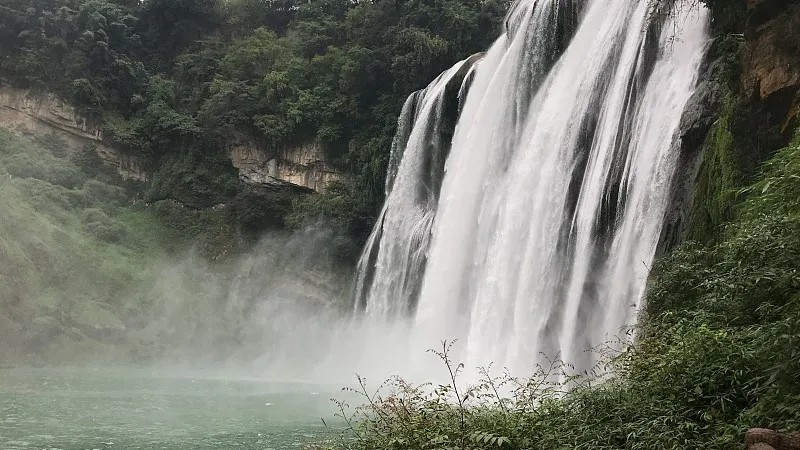Huangguoshu: (351, 1, 713, 382)
